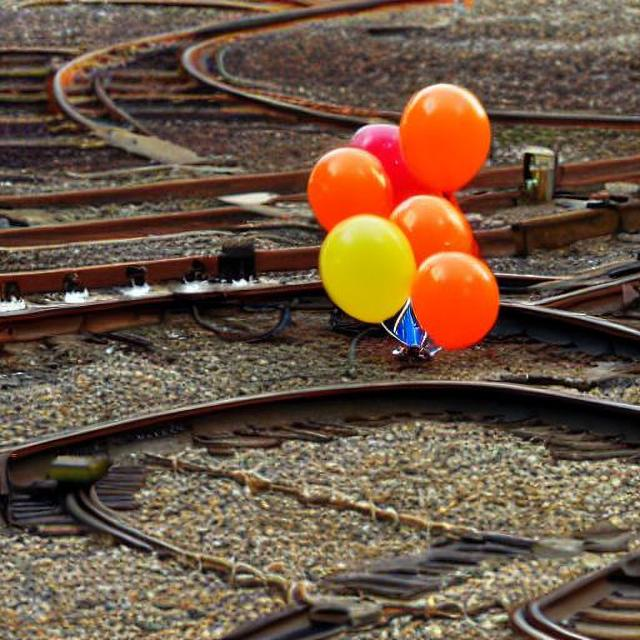balloon: (278, 86, 528, 364)
